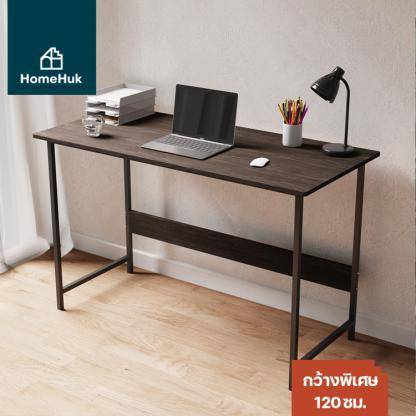table: (32, 93, 384, 392)
